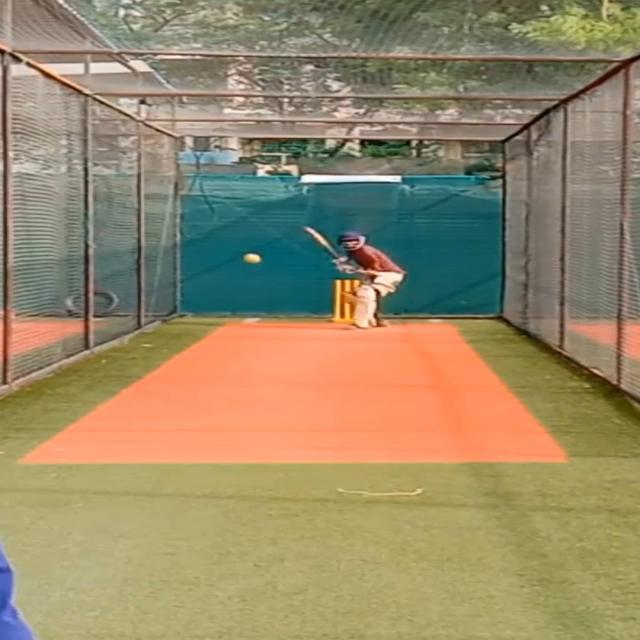ball: (242, 252, 264, 266)
stump: (330, 279, 363, 323)
